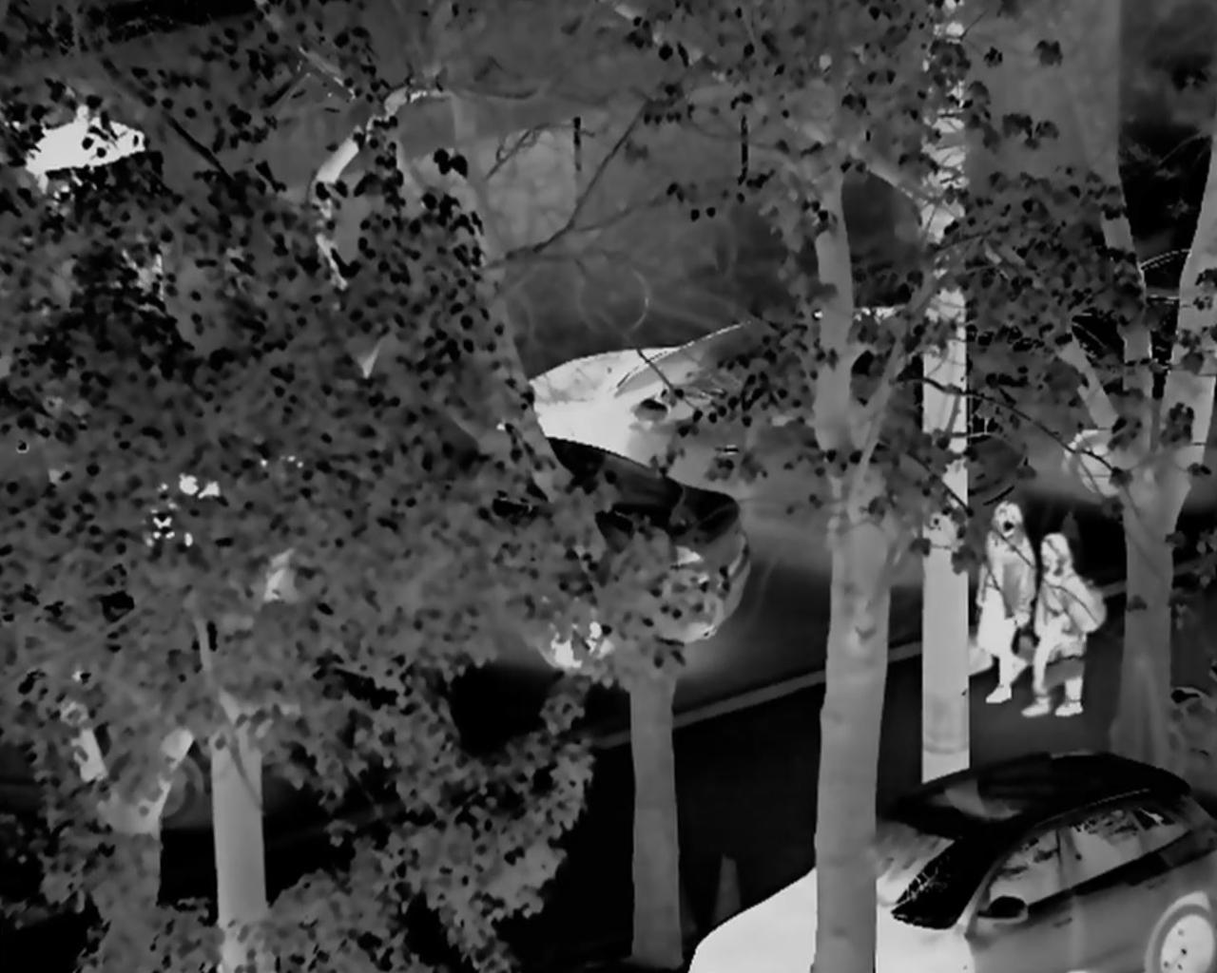person: (1028, 528, 1108, 724), (965, 497, 1034, 709)
